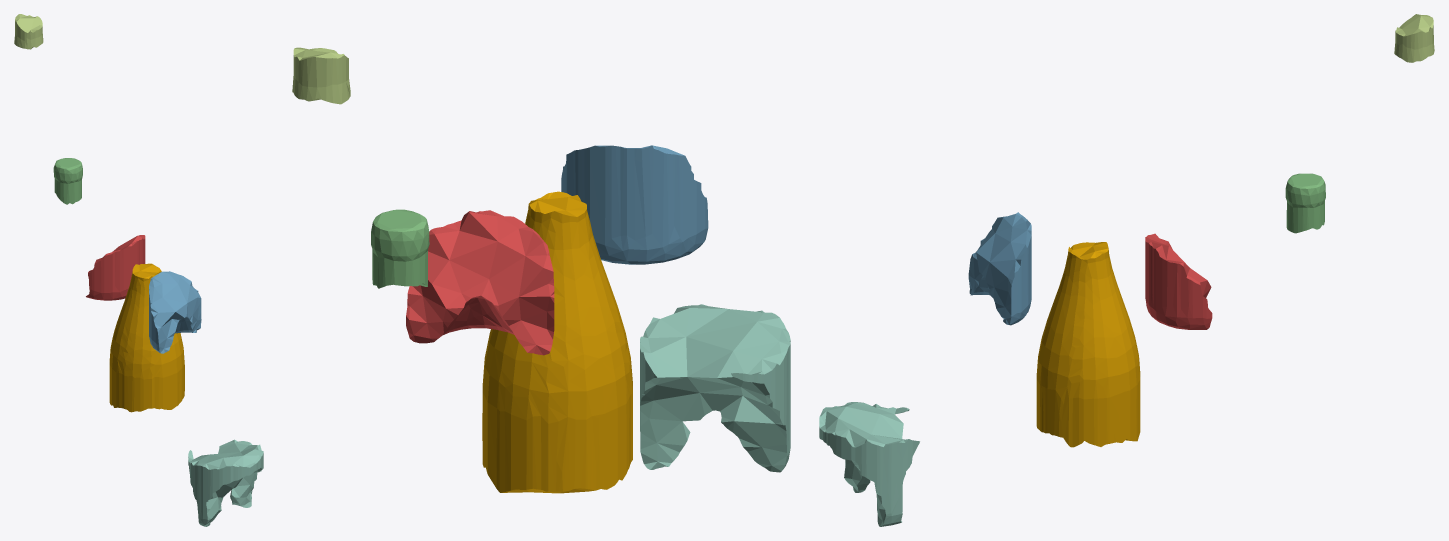
The model's file is fractured_16_6pcs_transformed.glb.
3 views of the same model, side by side, from view 1: azimuth 30°, elevation 25°; view 2: azimuth 150°, elevation 25°; view 3: azimuth 270°, elevation 25° (orthographic). The views are drawn at different scales.
Parts seen in each view (by area): view 1: piece_0.obj, piece_4.obj, piece_2.obj, piece_1.obj, piece_3.obj, piece_5.obj; view 2: piece_0.obj, piece_4.obj, piece_1.obj, piece_2.obj, piece_3.obj, piece_5.obj; view 3: piece_0.obj, piece_4.obj, piece_2.obj, piece_1.obj, piece_3.obj, piece_5.obj.
Boxes of the visible parts, left/top/right/bottom form: piece_0.obj: left=109, top=263, right=184, bottom=412; piece_4.obj: left=188, top=439, right=263, bottom=526; piece_2.obj: left=149, top=271, right=201, bottom=353; piece_1.obj: left=86, top=235, right=145, bottom=300; piece_3.obj: left=53, top=158, right=82, bottom=204; piece_5.obj: left=14, top=14, right=43, bottom=49; piece_0.obj: left=482, top=191, right=632, bottom=493; piece_4.obj: left=640, top=304, right=790, bottom=472; piece_1.obj: left=406, top=210, right=554, bottom=355; piece_2.obj: left=561, top=145, right=708, bottom=264; piece_3.obj: left=371, top=209, right=429, bottom=288; piece_5.obj: left=292, top=47, right=350, bottom=104; piece_0.obj: left=1036, top=242, right=1140, bottom=447; piece_4.obj: left=819, top=402, right=919, bottom=526; piece_2.obj: left=968, top=212, right=1031, bottom=325; piece_1.obj: left=1145, top=233, right=1212, bottom=329; piece_3.obj: left=1285, top=173, right=1325, bottom=233; piece_5.obj: left=1394, top=14, right=1434, bottom=62.
Bounding box in the file's own units: 0.2867 × 1.49 × 1.7.
